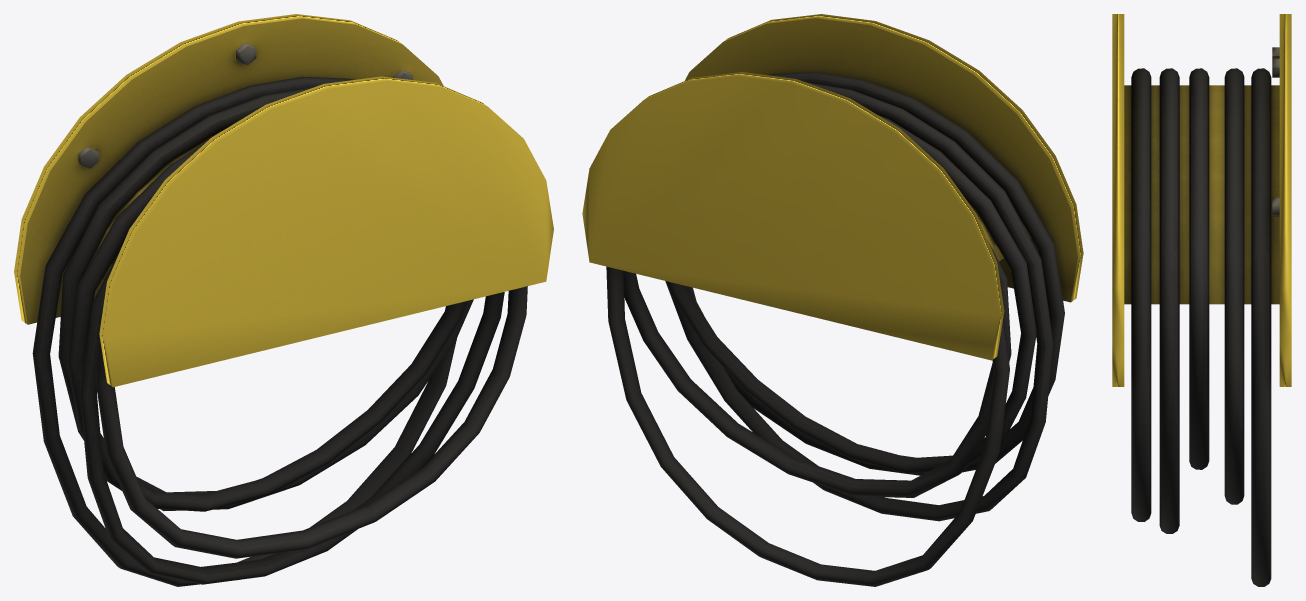
File: hochdruckreiniger_halterung.fbx
3 views of the same model, side by side, from view 1: azimuth 30°, elevation 25°; view 2: azimuth 150°, elevation 25°; view 3: azimuth 270°, elevation 25° (orthographic). The views are drawn at different scales.
Visible parts, largest first — view 1: Mesh; view 2: Mesh; view 3: Mesh.
Boxes of the visible parts, x1,y1,x2,y2 form: Mesh: (14, 14, 553, 586); Mesh: (582, 14, 1083, 586); Mesh: (1112, 14, 1291, 586).
Bounding box in the file's own units: 40.59 × 46.89 × 14.33.
